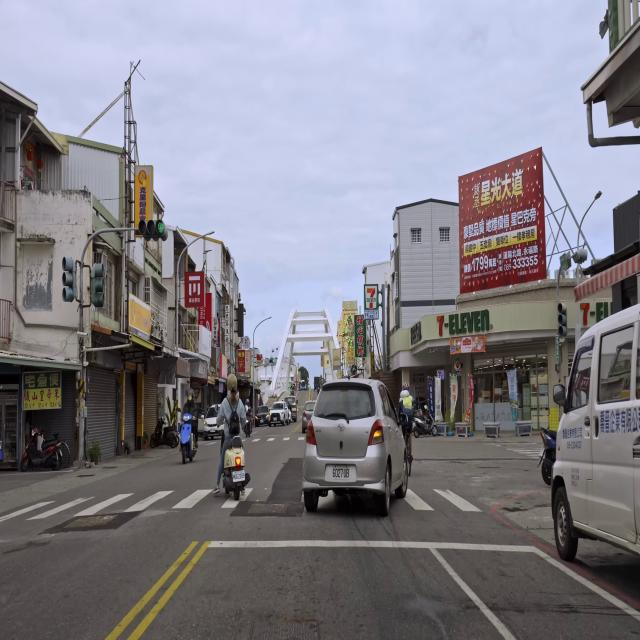green light: (138, 220, 165, 235)
